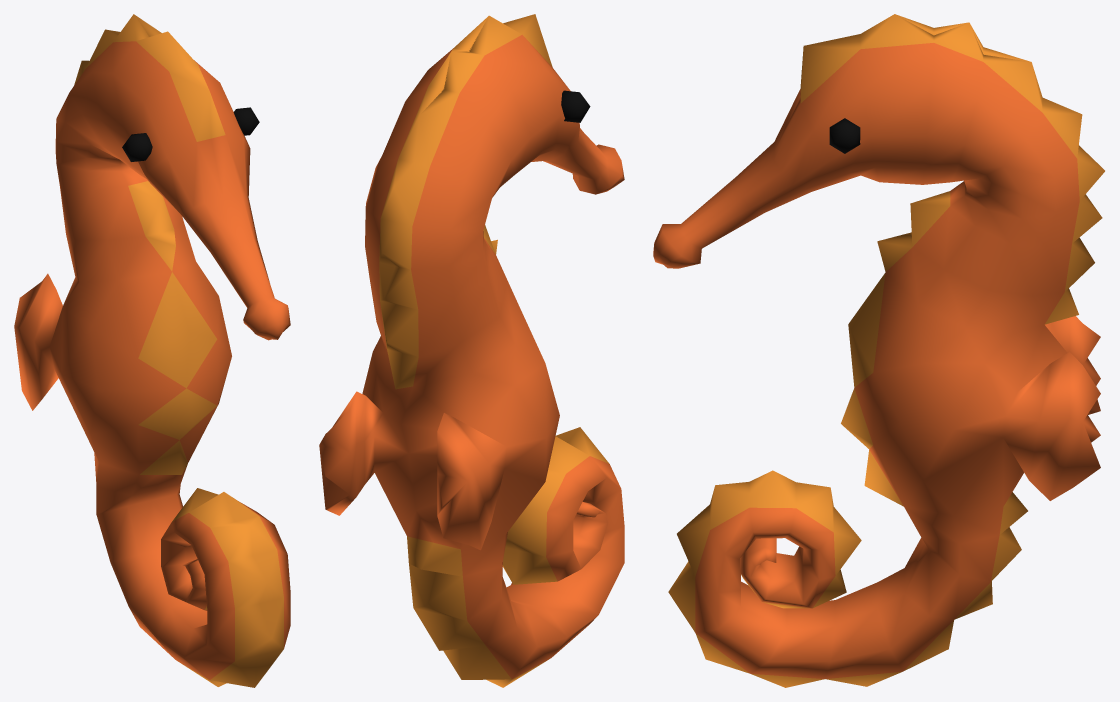
The model's file is NOVELO_SEAHORSE.gltf.
3 renders of one model, left to right at view 1: azimuth 30°, elevation 25°; view 2: azimuth 150°, elevation 25°; view 3: azimuth 270°, elevation 25°, orthographic. The views are drawn at different scales.
Parts seen in each view (by area): view 1: node-0; view 2: node-0; view 3: node-0.
Boxes of the visible parts, x1,y1,x2,y2 form: node-0: [14, 14, 290, 687]; node-0: [319, 14, 624, 687]; node-0: [653, 14, 1104, 687].
Bounding box in the file's own units: 132 × 494 × 300.
